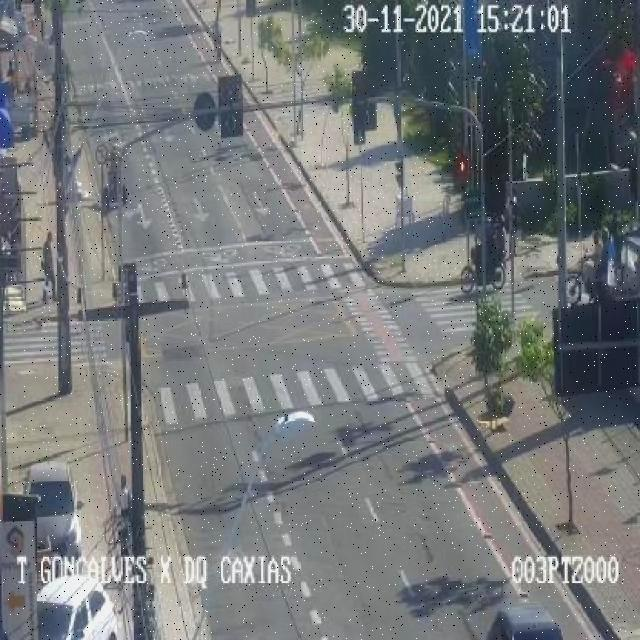Car: (30, 558, 119, 640), (21, 438, 88, 544), (488, 574, 564, 640)
Cycle: (441, 195, 520, 298), (561, 193, 628, 304), (94, 459, 146, 579)
